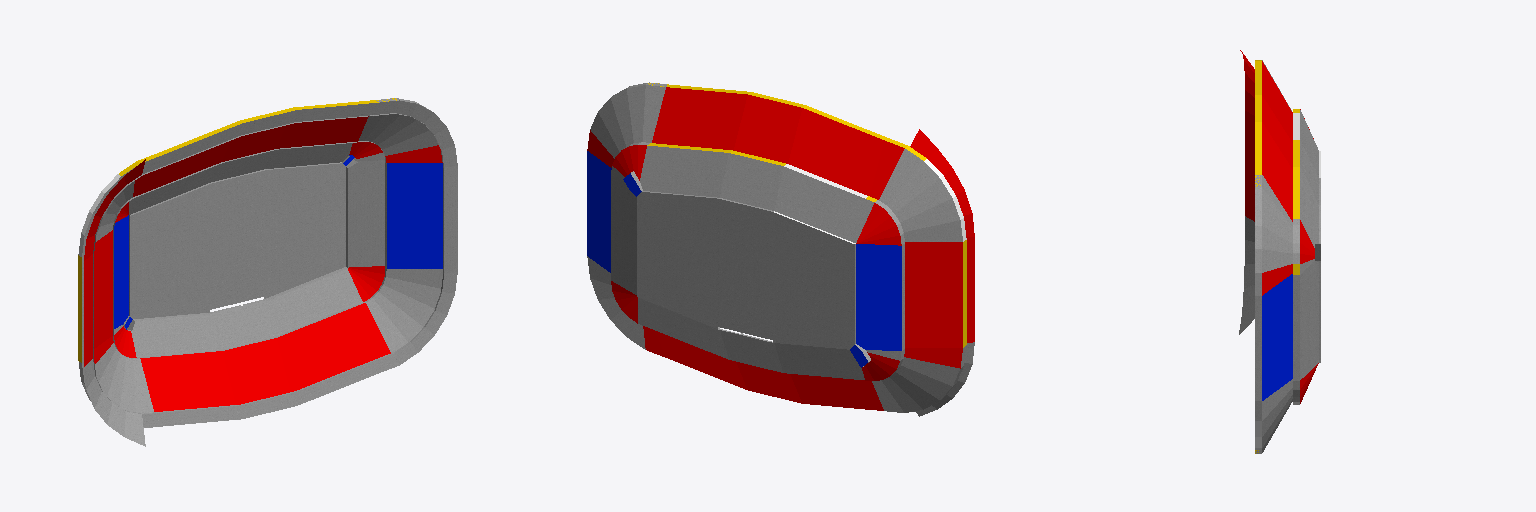
3 views of the same model, side by side, from view 1: azimuth 30°, elevation 25°; view 2: azimuth 150°, elevation 25°; view 3: azimuth 270°, elevation 25° (orthographic).
Visible parts, largest first — view 1: Mesh1 ske8_1 Model; view 2: Mesh1 ske8_1 Model; view 3: Mesh1 ske8_1 Model.
Boxes of the visible parts, x1=… form: Mesh1 ske8_1 Model: x1=78, y1=98, x2=457, y2=446; Mesh1 ske8_1 Model: x1=587, y1=82, x2=974, y2=416; Mesh1 ske8_1 Model: x1=1239, y1=50, x2=1320, y2=453.
Size of the model in its own units: 626 by 467 by 118.
Materials: 5 (1 with a texture image).